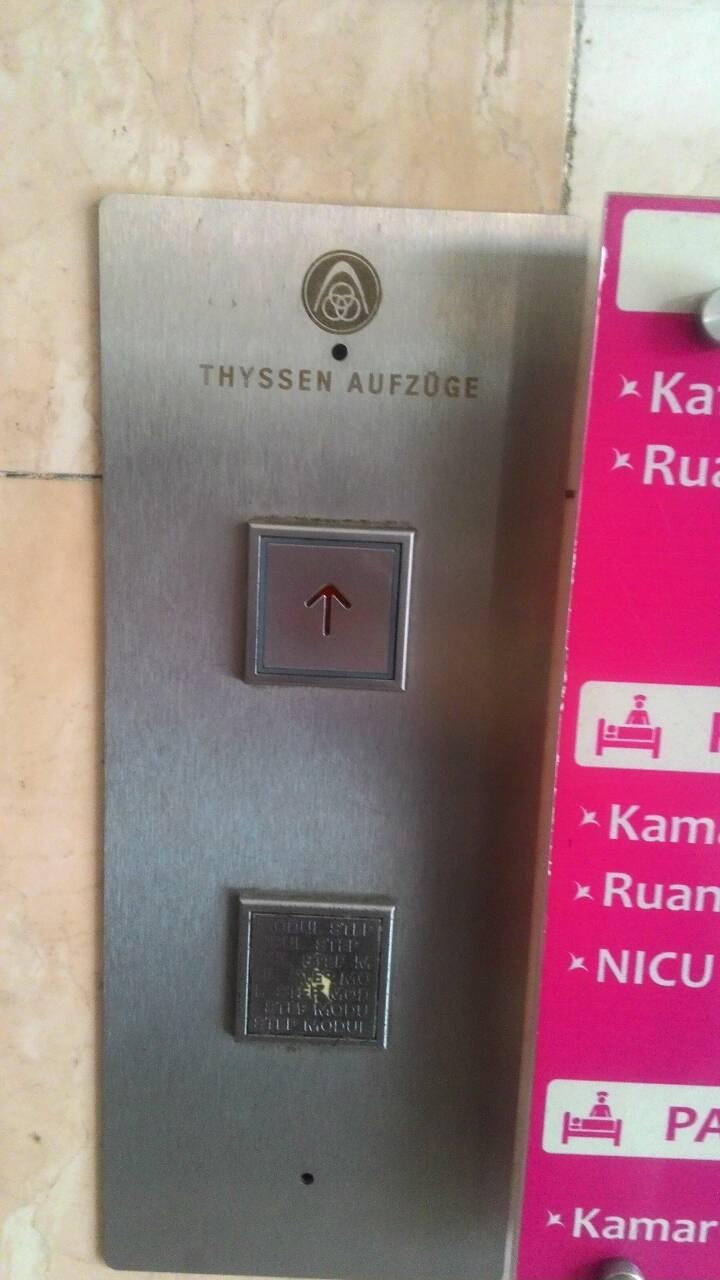text: (231, 895, 397, 1050)
up: (241, 513, 418, 697)
